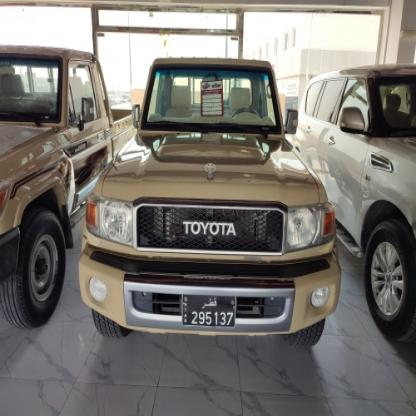np: (180, 291, 236, 330)
